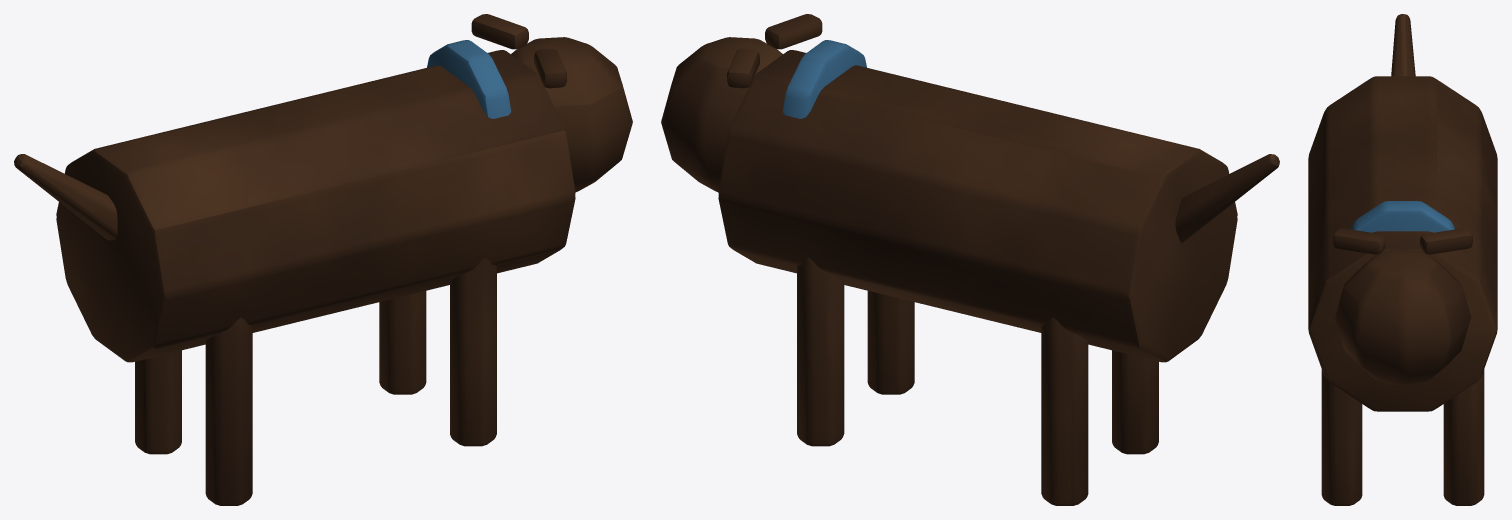
File: unit_freetown_hound.fbx
The picture shows the model from 3 angles, left to right: view 1: azimuth 30°, elevation 25°; view 2: azimuth 150°, elevation 25°; view 3: azimuth 270°, elevation 25°; orthographic projection. The views are drawn at different scales.
Visible parts, largest first — view 1: unit_freetown_hound; view 2: unit_freetown_hound; view 3: unit_freetown_hound.
Boxes of the visible parts, <box> form: unit_freetown_hound: <box>14,14,632,505</box>; unit_freetown_hound: <box>661,14,1279,505</box>; unit_freetown_hound: <box>1308,14,1497,505</box>.
Size of the model in its own units: 1.4 by 0.7895 by 0.4355.
